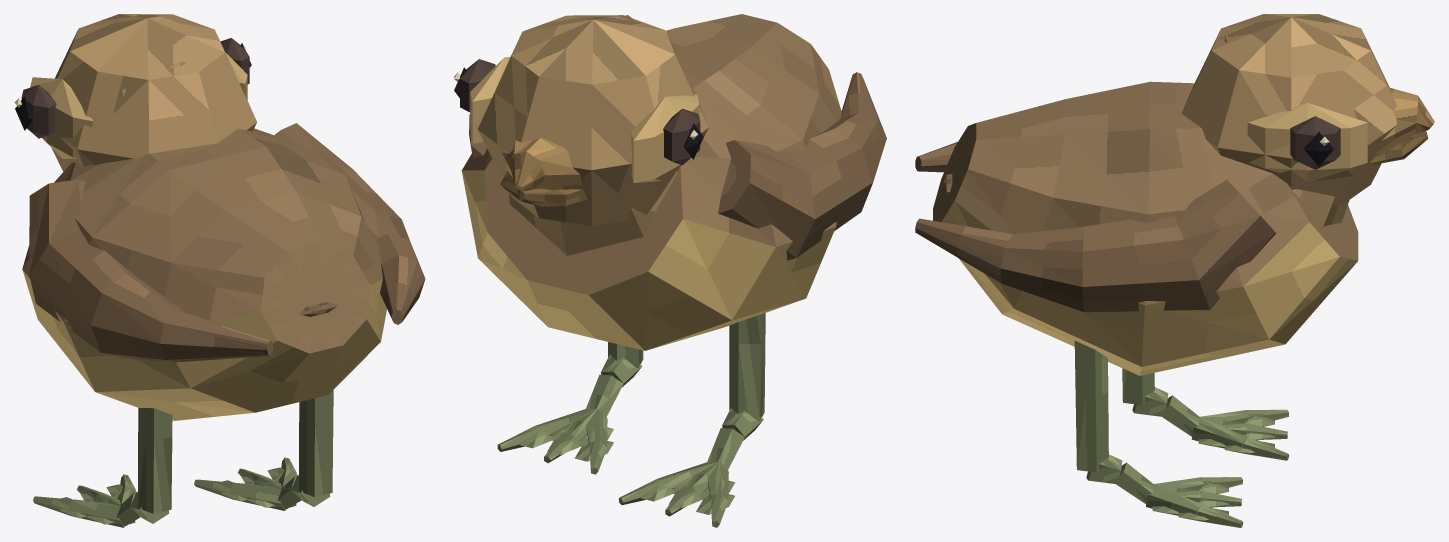
File: mon_coot_chick.glb
3 views of the same model, side by side, from view 1: azimuth 30°, elevation 25°; view 2: azimuth 150°, elevation 25°; view 3: azimuth 270°, elevation 25° (orthographic). The views are drawn at different scales.
Parts seen in each view (by area): view 1: closed_body; view 2: closed_body; view 3: closed_body.
Boxes of the visible parts, <box> form: closed_body: <box>14,14,425,527</box>; closed_body: <box>454,14,886,527</box>; closed_body: <box>915,14,1434,527</box>.
Bounding box in the file's own units: 0.0713 × 0.0952 × 0.0978.
1 material, 1 textured.
